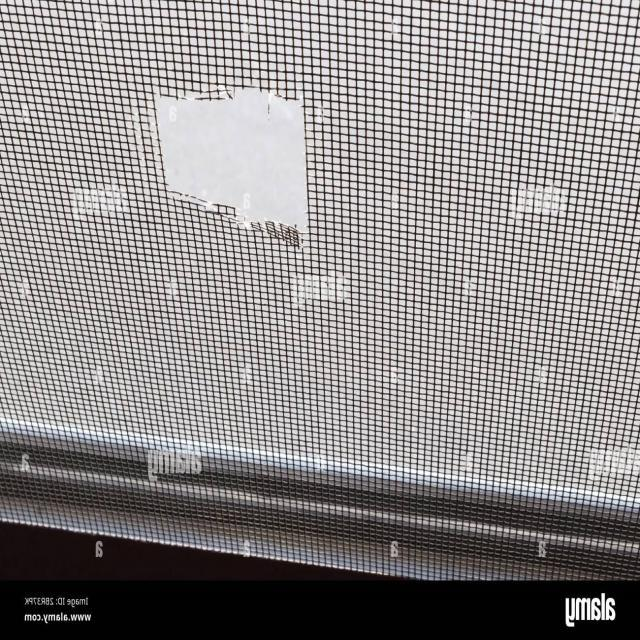fence line: (148, 77, 325, 253)
